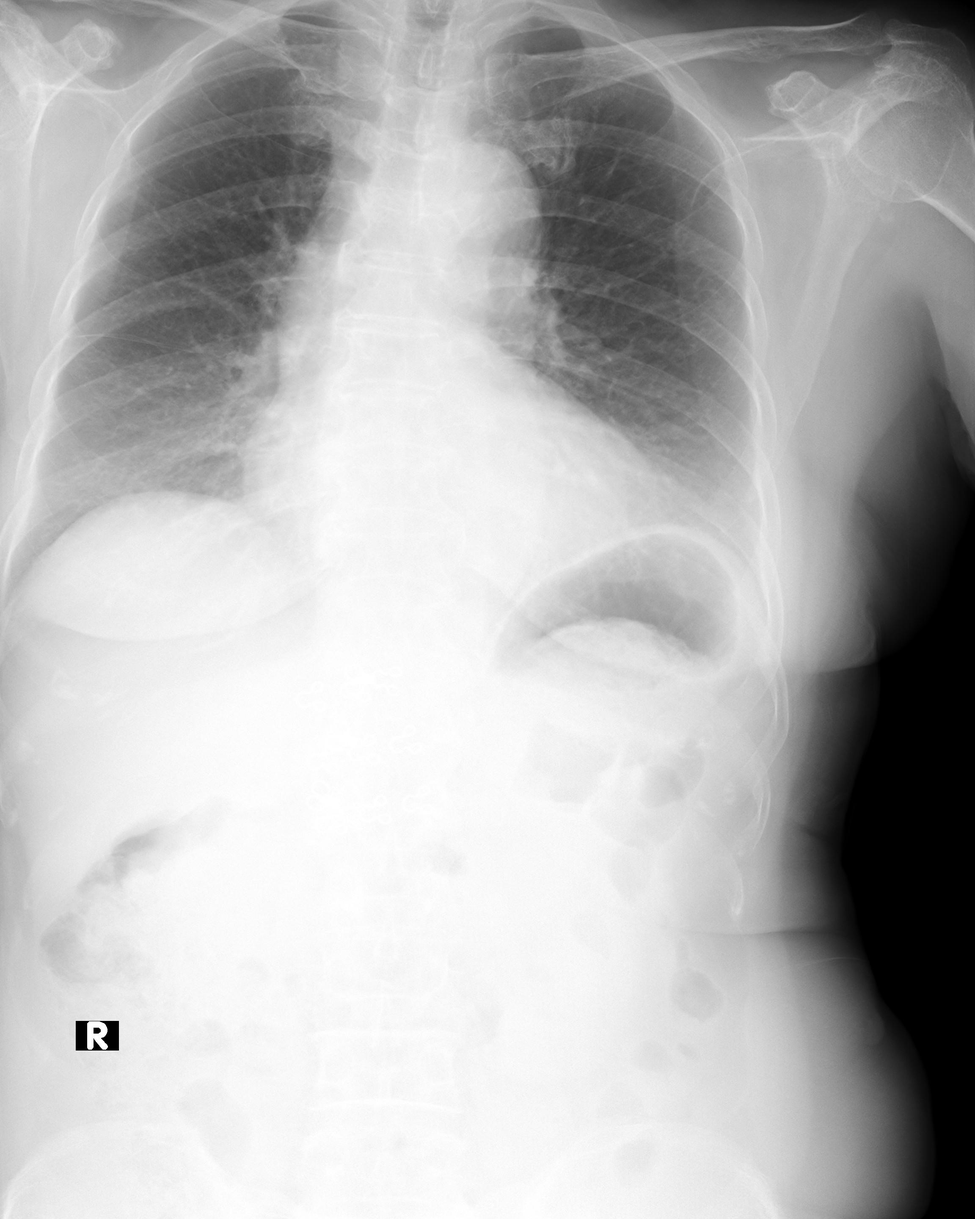Aortic enlargement: (414, 138, 542, 298)
Cardiomegaly: (238, 430, 671, 564)
